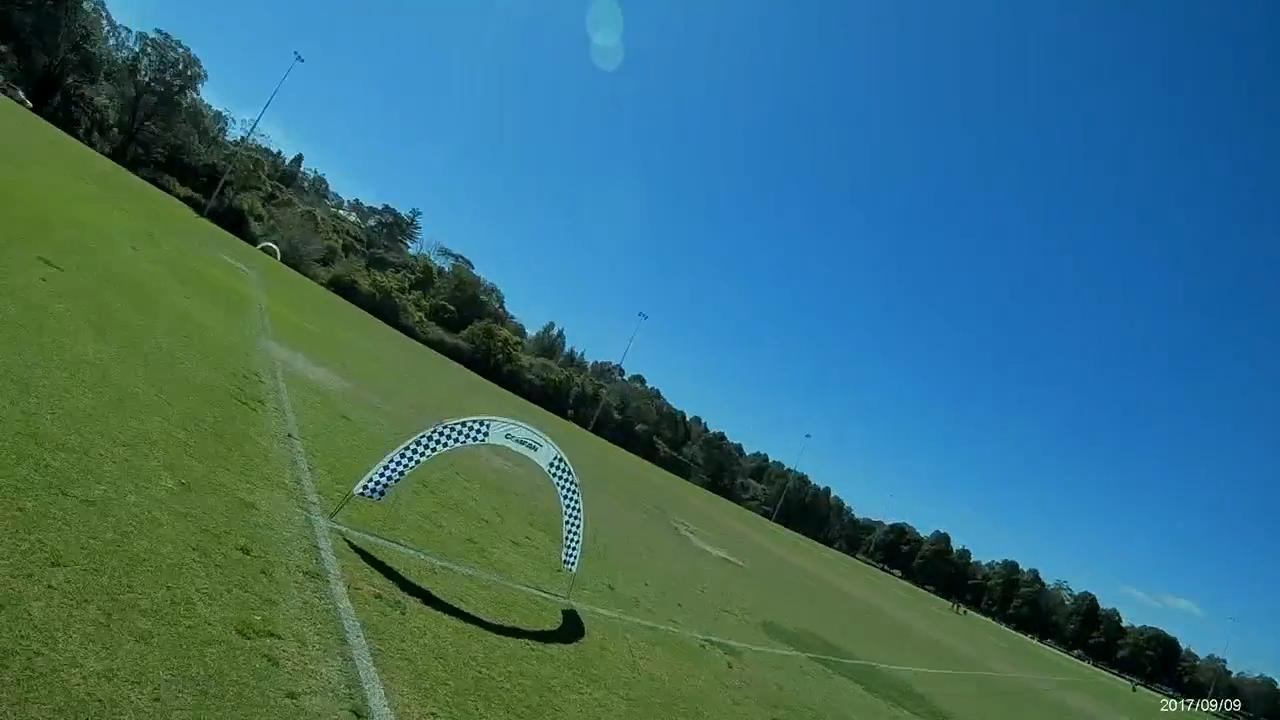gate: (348, 412, 585, 573)
